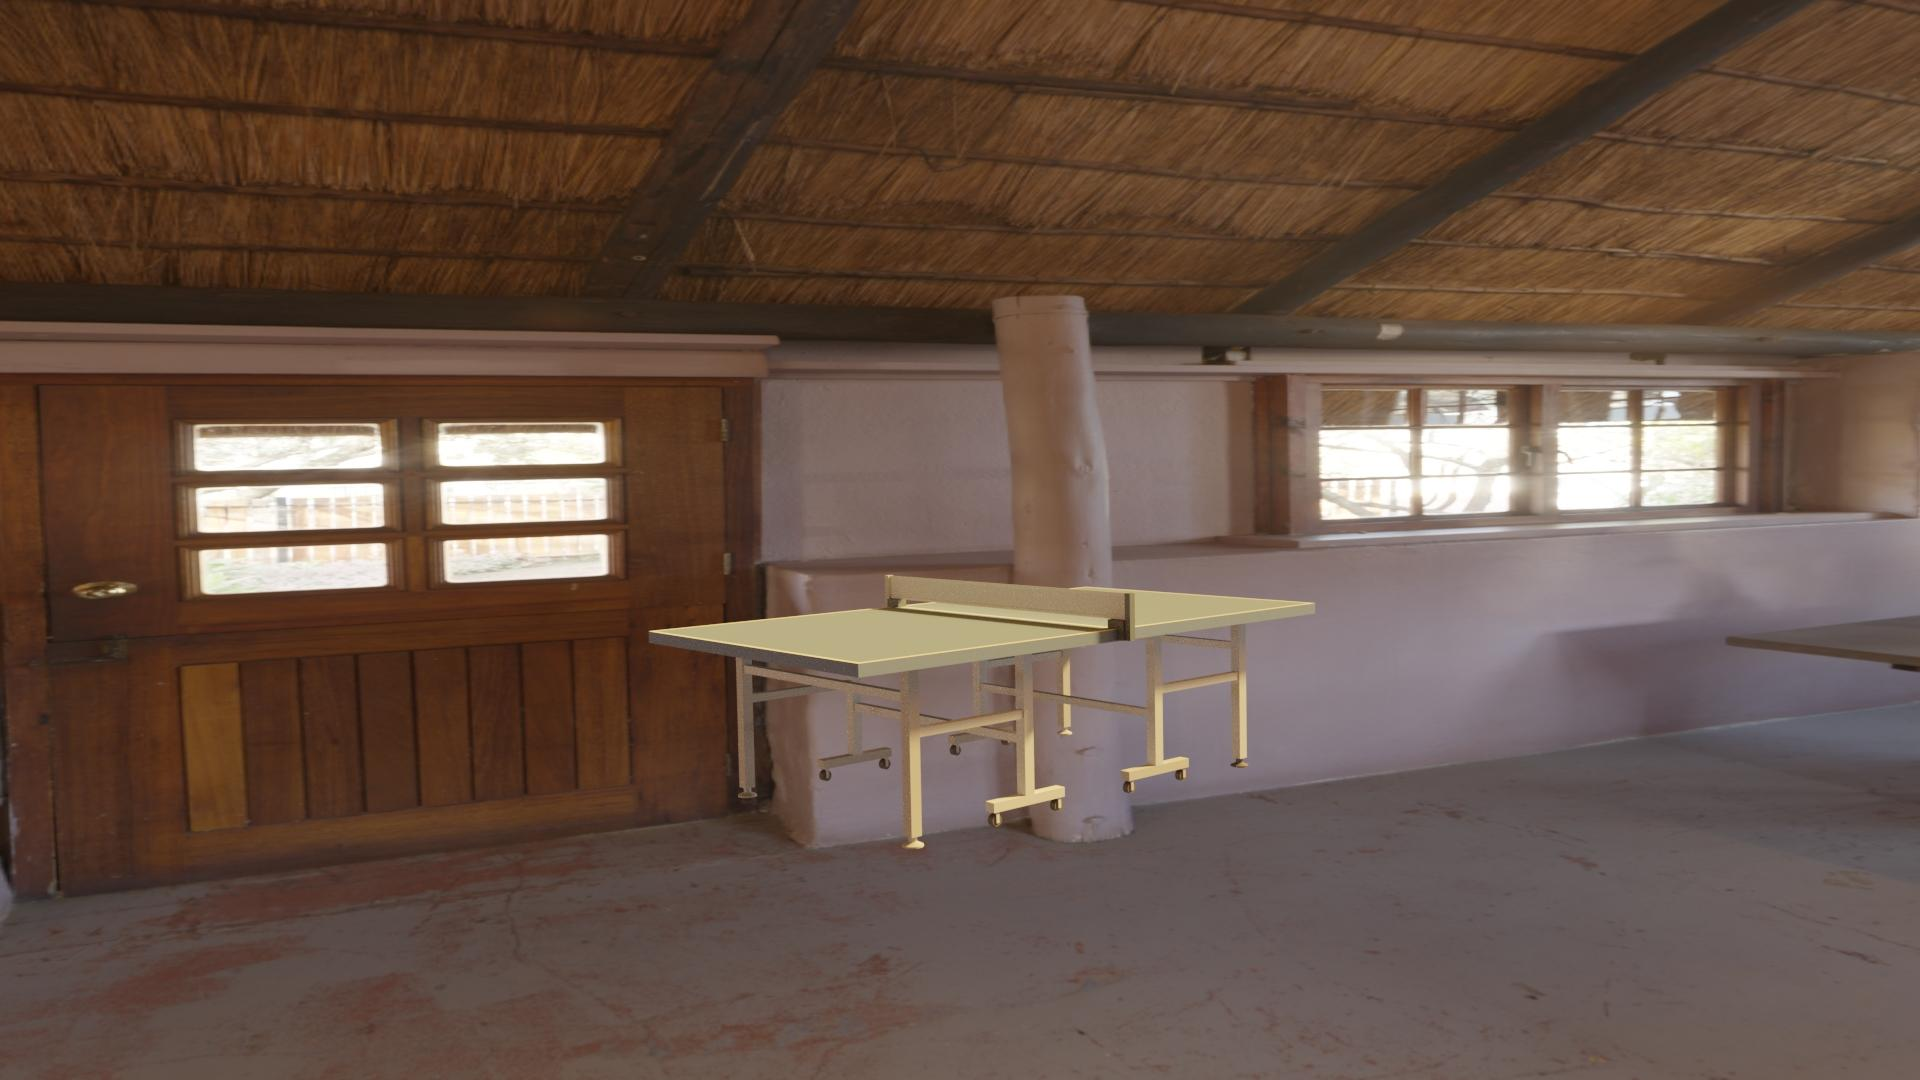table: (655, 587, 1309, 662)
